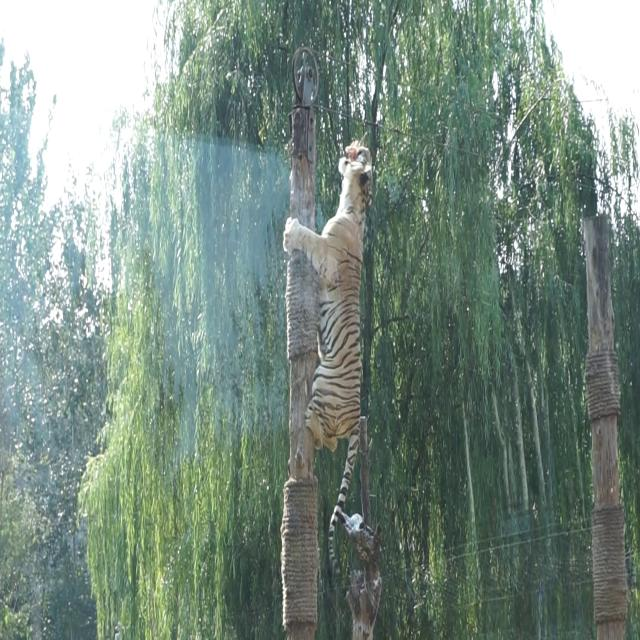Tiger: (274, 146, 372, 576)
